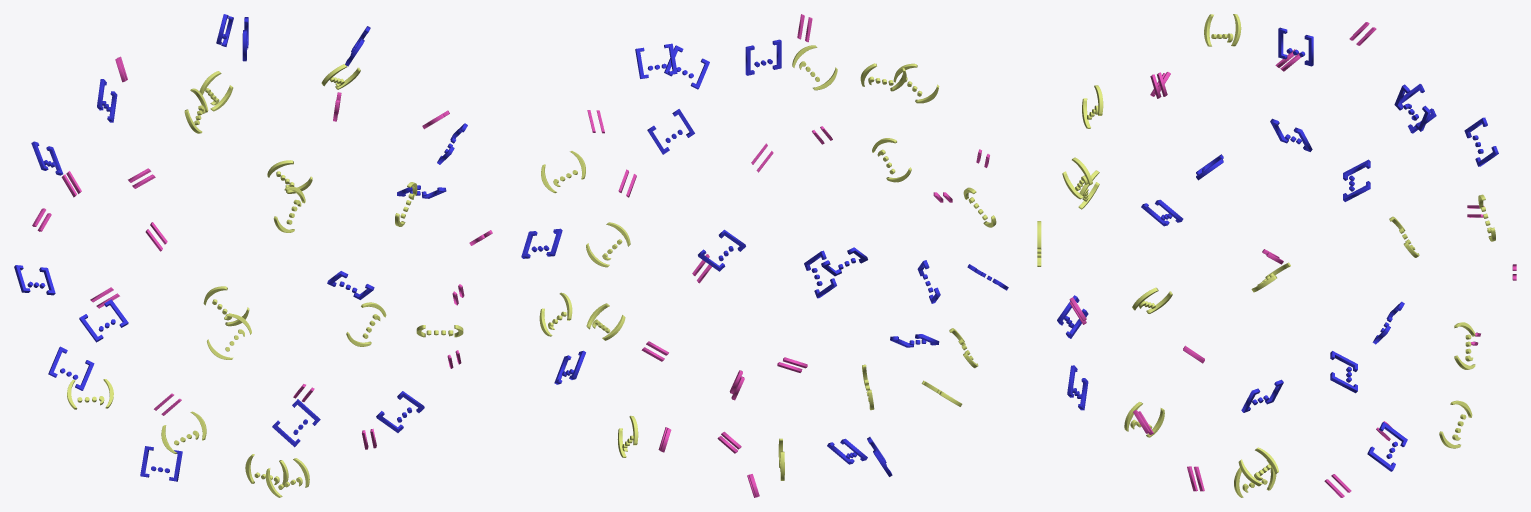
3 renders of one model, left to right at view 1: azimuth 30°, elevation 25°; view 2: azimuth 150°, elevation 25°; view 3: azimuth 270°, elevation 25°, orthographic. The views are drawn at different scales.
Parts seen in each view (by area): view 1: Icosphere; view 2: Icosphere; view 3: Icosphere.
Boxes of the visible parts, box(x1,y1,x2,y2) form: Icosphere: box(14, 14, 492, 497); Icosphere: box(521, 14, 1008, 497); Icosphere: box(1037, 14, 1516, 497).
Bounding box in the file's own units: 14.64 × 14.86 × 14.05.
